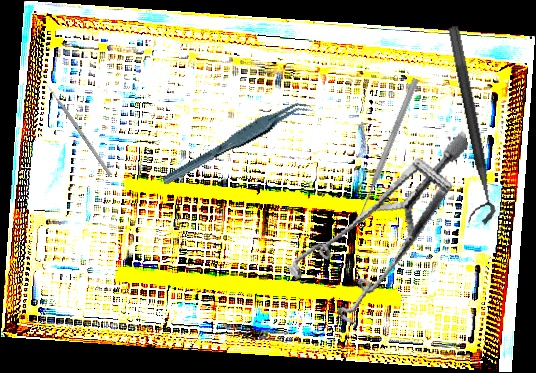Fixation Ring: (431, 25, 498, 228)
Pusher: (356, 77, 420, 218), (42, 79, 113, 177)
Speculum: (266, 129, 504, 337)
Tissue Forceps: (154, 97, 319, 186)
